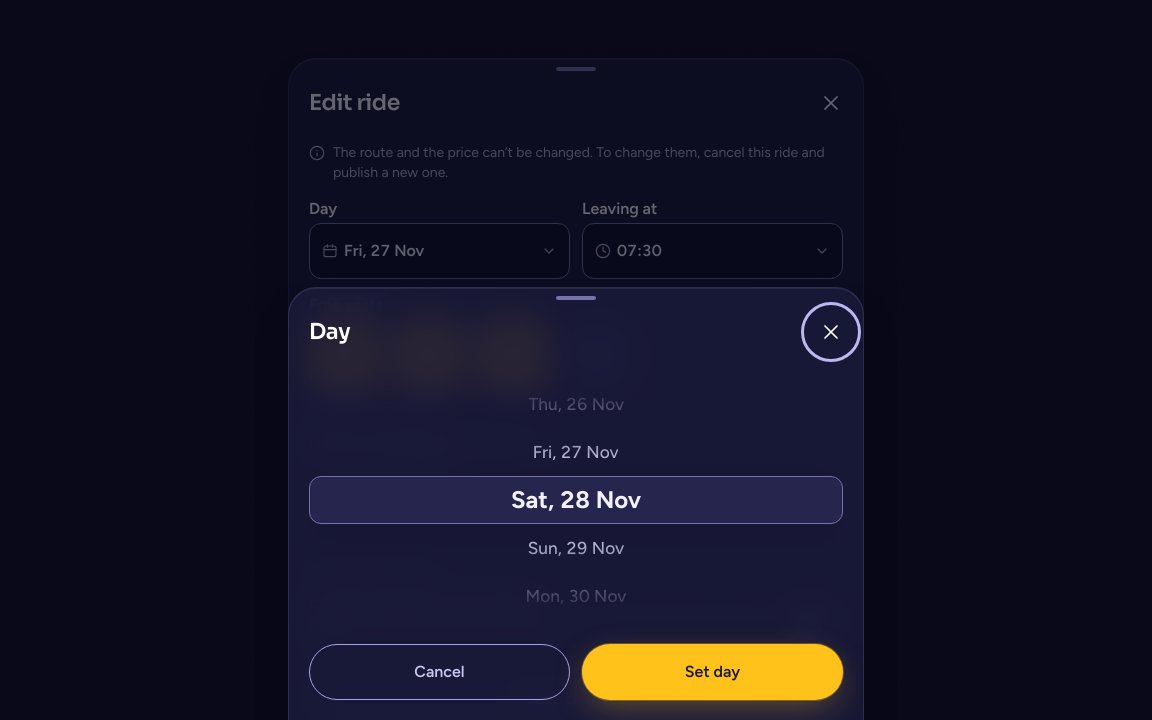
Test case: EditRideSheet › DAILY_RIDE_LIMIT -> day: shows the message inline and focuses the field
Earlier steps of the test are not shown.
(page scrolled)
Step 1. Click the button "Set day" → (712, 672), box [582,644,843,700]
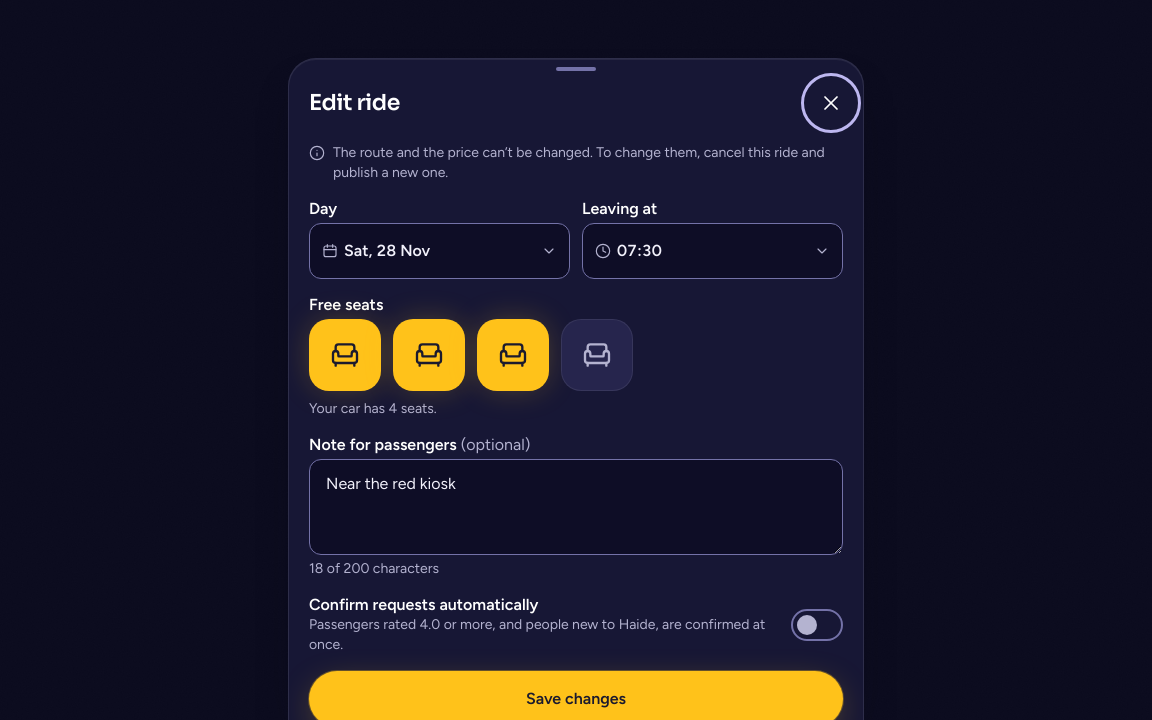
Step 2. Click the radio button named "2 seats" → (429, 355), box [393,319,465,391]
(page scrolled)
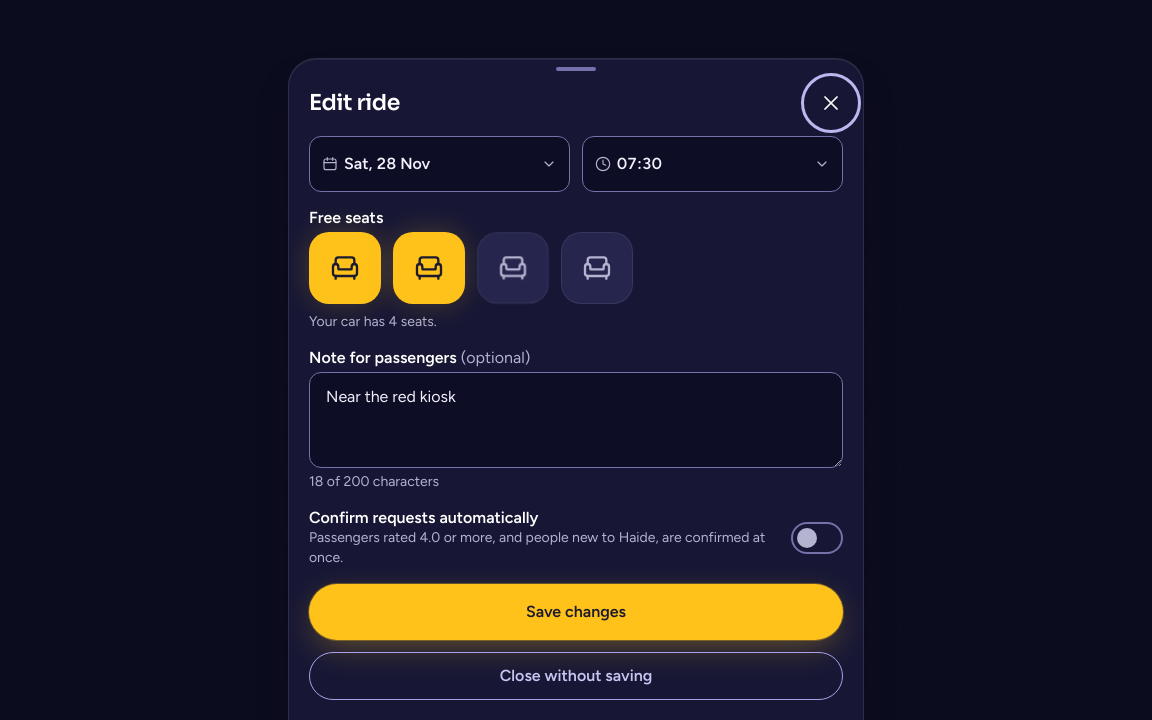
Step 3. Click the button "Save changes" → (576, 612), box [309,584,843,640]
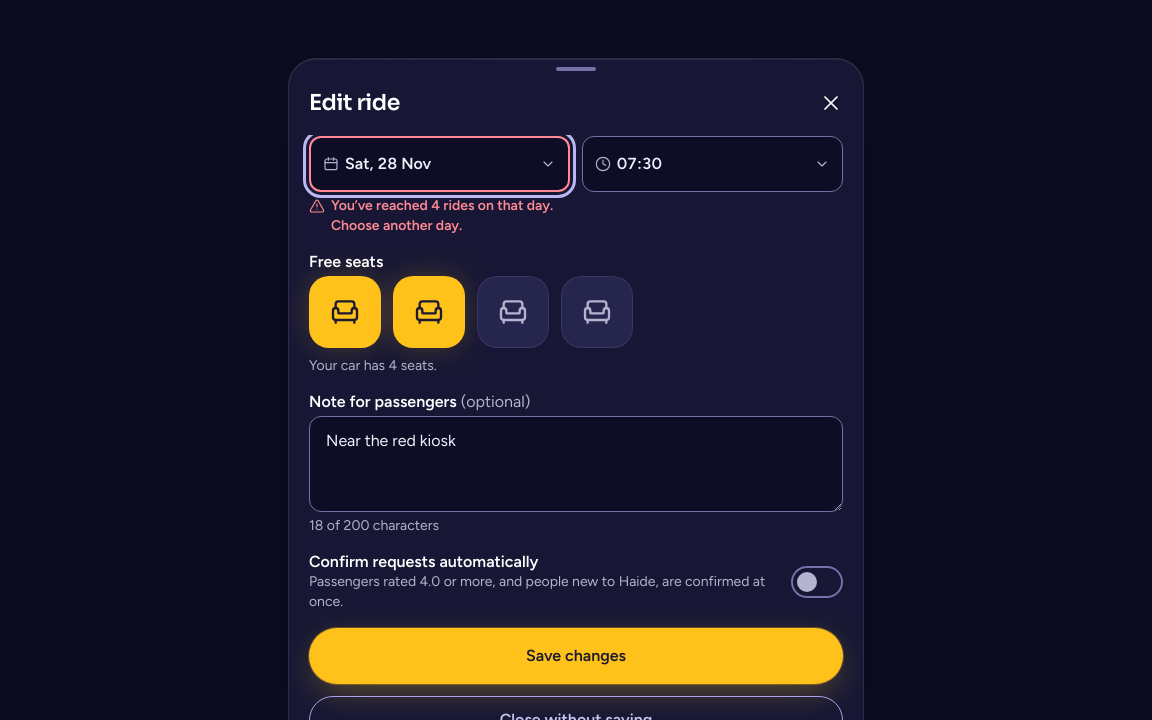
Expected: the message "You’ve reached 4 rides on that day. Choose another day." is shown, [309,196,570,236]
